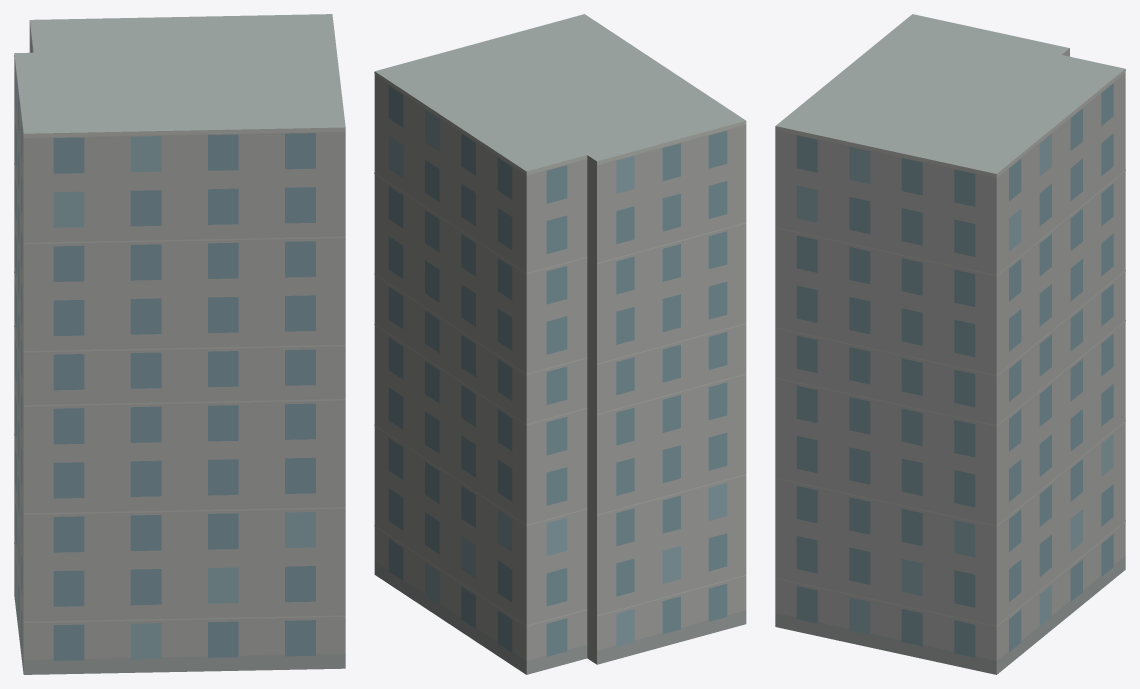
The model's file is survey-upis-33001201.glb.
3 views of the same model, side by side, from view 1: azimuth 30°, elevation 25°; view 2: azimuth 150°, elevation 25°; view 3: azimuth 270°, elevation 25° (orthographic). The views are drawn at different scales.
Visible parts, largest first — view 1: survey-upis-33001201.tmp; view 2: survey-upis-33001201.tmp; view 3: survey-upis-33001201.tmp.
Boxes of the visible parts, x1=… form: survey-upis-33001201.tmp: x1=14, y1=14, x2=345, y2=674; survey-upis-33001201.tmp: x1=374, y1=14, x2=746, y2=674; survey-upis-33001201.tmp: x1=775, y1=14, x2=1125, y2=674.
Size of the model in its own units: 21.22 by 30.95 by 19.64.
